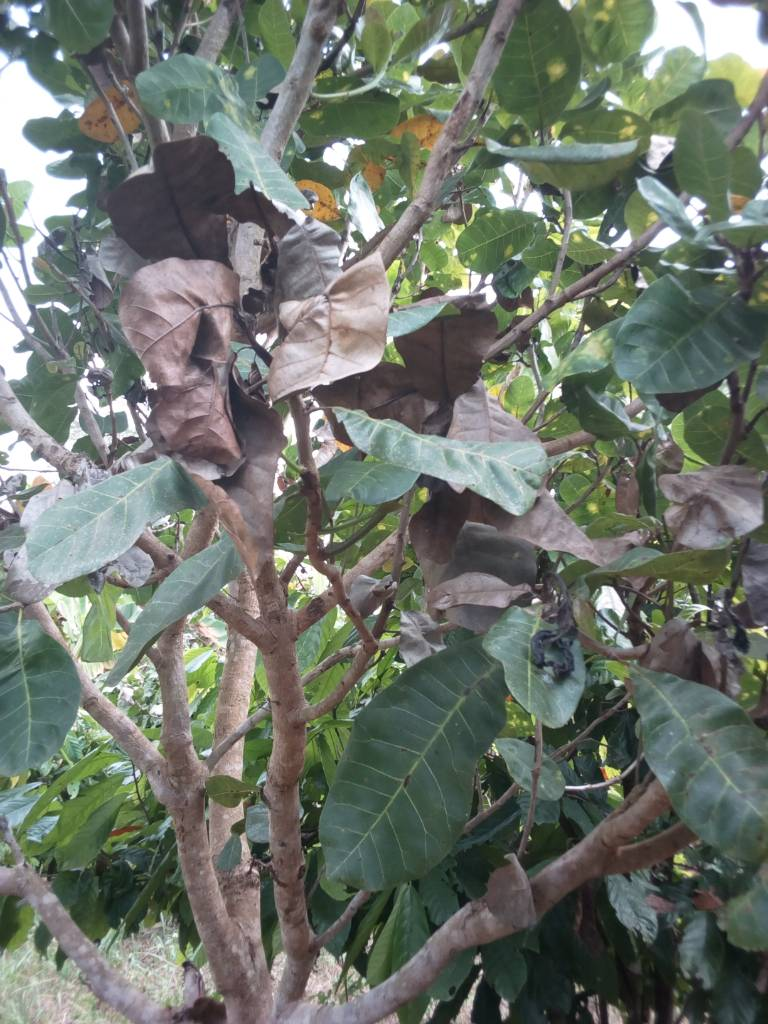Dessèchement des bourgeons: (536, 571, 579, 675)
